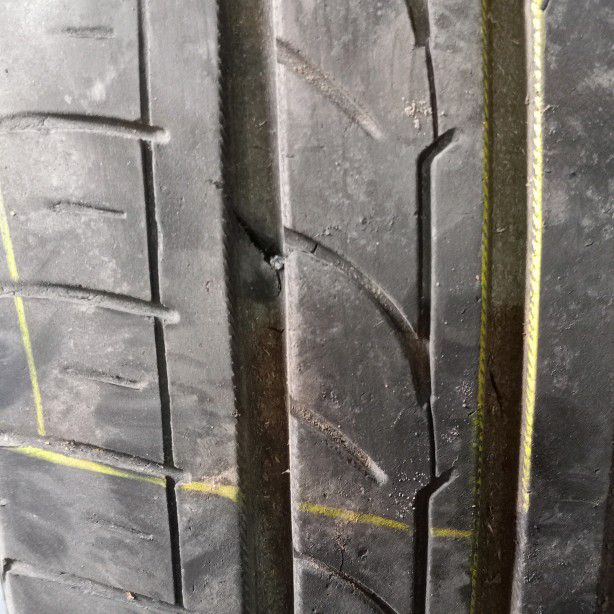tr: (228, 198, 289, 292)
